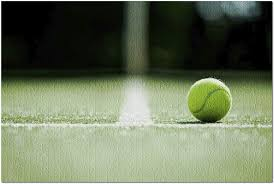tennis_ball: (185, 77, 232, 123)
